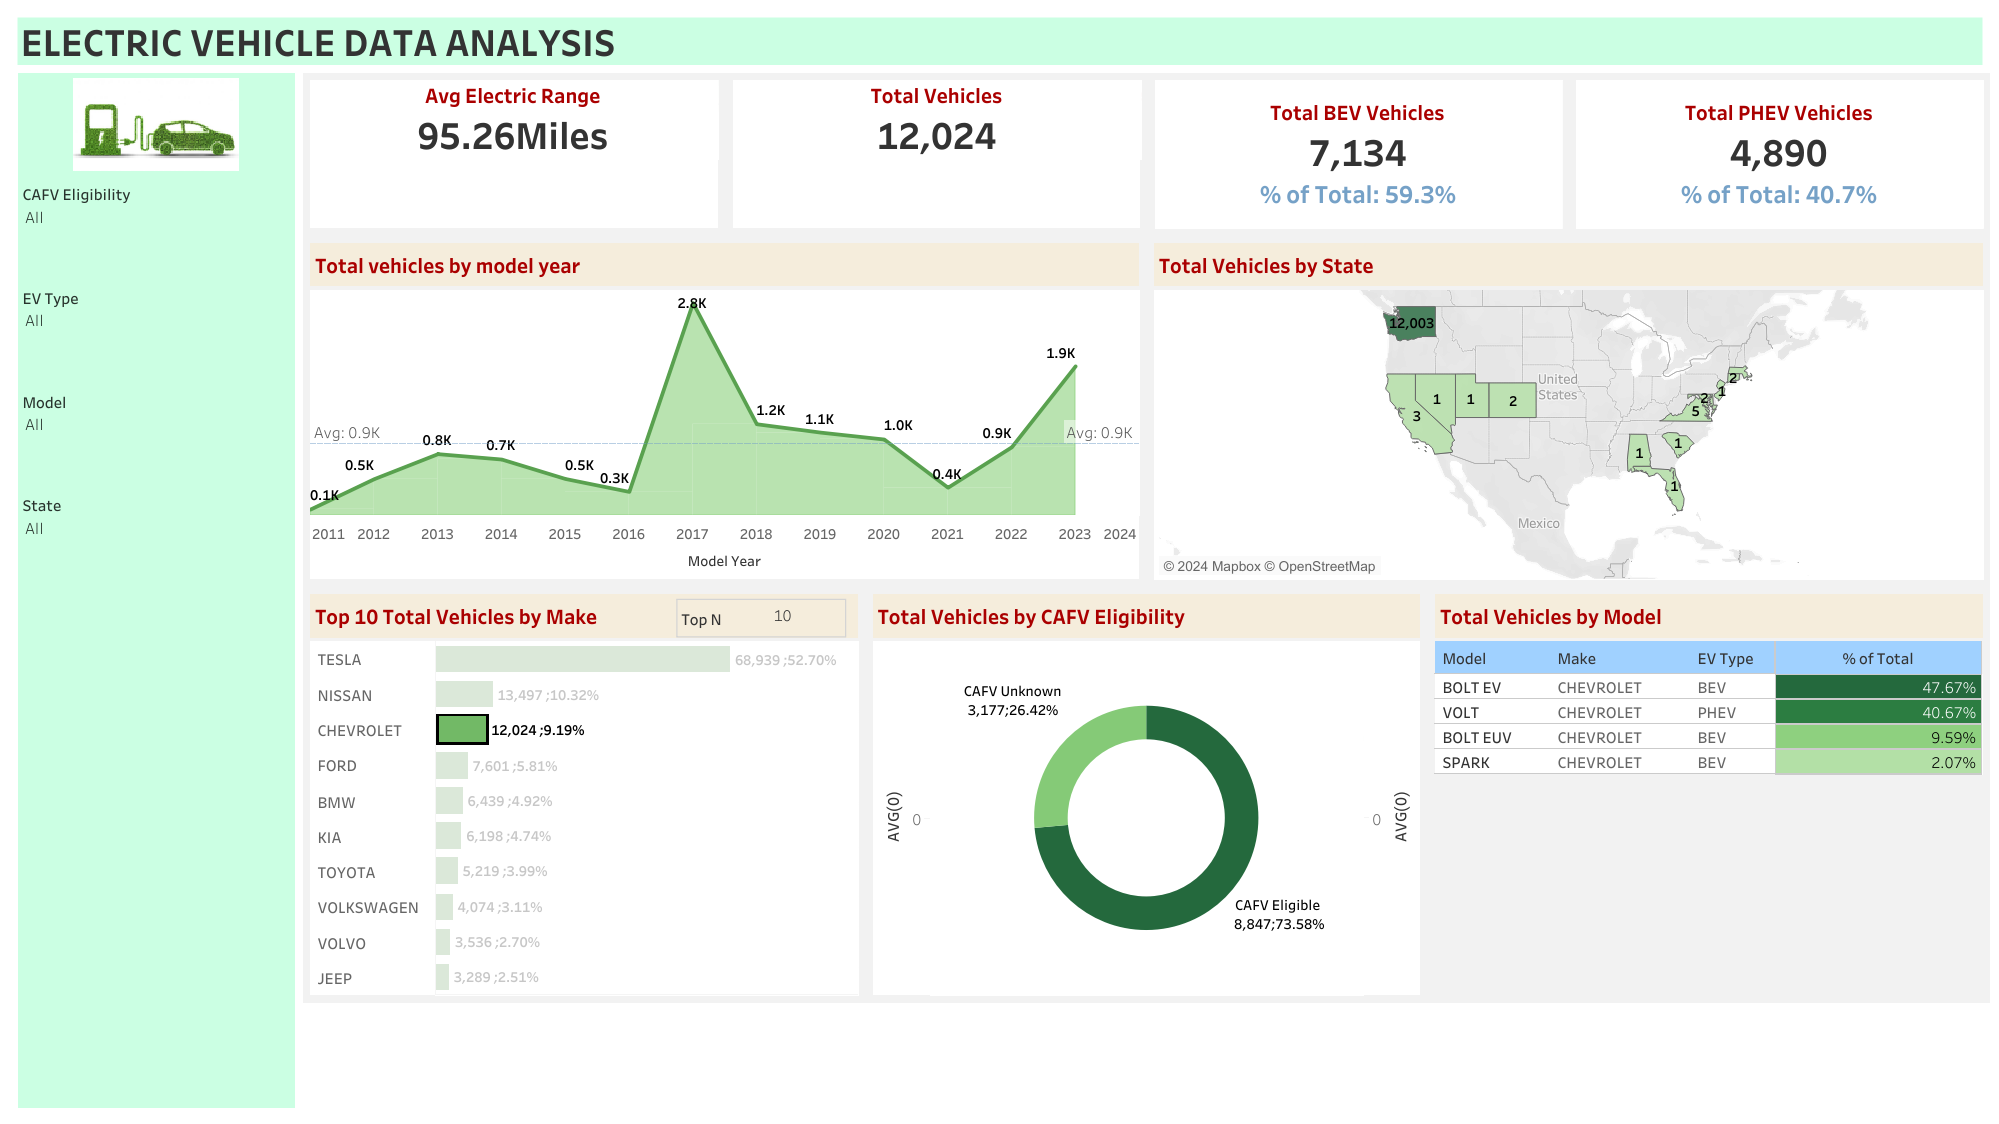

The page's visual inventory and layout, read from the dashboard file:
{"tool":"tableau","page":{"name":"Dashboard 1","canvas":[1600,900],"ordinal":0},"visuals":[{"type":"title","box":[8,8,1584,50]},{"type":"image","param":"E:/cdata/pictures/Green EV car.jpg","box":[14,58,222,83]},{"type":"worksheet","title":"Avg Electric Range","mark":"Automatic","box":[242,58,338,130]},{"type":"worksheet","title":"Total Vehicles","mark":"Automatic","box":[580,58,338,130]},{"type":"worksheet","title":"Total BEV Vehicles","mark":"Automatic","box":[918,58,337,130]},{"type":"worksheet","title":"Total PHEV Vehicles ","mark":"Automatic","box":[1255,58,337,130]},{"type":"filter","title":"Total vehicles by model year","param":"[federated.1wryx0n0py6w6v1azeyqt0s9h6ch].[none:Clean Alternative Fuel Vehicle (C","box":[14,141,222,83]},{"type":"worksheet","title":"Total vehicles by model year","mark":"Area","rows":["Calculation_722264811047989249","Calculation_722264811047989249"],"cols":["Model Year"],"box":[242,188,675,281]},{"type":"worksheet","title":"Total Vehicles by State","mark":"Multipolygon","box":[917,188,675,281]},{"type":"filter","title":"Total vehicles by model year","param":"[federated.1wryx0n0py6w6v1azeyqt0s9h6ch].[none:Electric Vehicle Type:nk]","box":[14,224,222,83]},{"type":"filter","title":"Total vehicles by model year","param":"[federated.1wryx0n0py6w6v1azeyqt0s9h6ch].[none:Model:nk]","box":[14,307,222,83]},{"type":"filter","title":"Total vehicles by model year","param":"[federated.1wryx0n0py6w6v1azeyqt0s9h6ch].[none:State:nk]","box":[14,390,222,83]},{"type":"worksheet","title":"Top 10 Total Vehicles by Make","mark":"Automatic","rows":["Make"],"cols":["Calculation_722264811047989249"],"box":[242,469,450,333]},{"type":"worksheet","title":"Total Vehicles by CAFV Eligibility","mark":"Pie","rows":["Calculation_722264811170283529","Calculation_722264811170283529"],"box":[692,469,450,333]},{"type":"worksheet","title":"Total Vehicles by Model","mark":"Square","rows":["Model","Make","Electric Vehicle Type"],"box":[1142,469,450,333]},{"type":"blank","box":[14,473,222,83]},{"type":"parameter","param":"[Parameters].[Parameter 1]","box":[541,479,136,31]},{"type":"blank","box":[14,556,222,83]},{"type":"blank","box":[14,639,222,83]},{"type":"blank","box":[14,722,222,82]},{"type":"blank","box":[242,801.9,1350,90]},{"type":"blank","box":[14,804,222,82]}]}

Visuals, with their boxes in screenshot pixels (x1, y1, x2, y2), scaled from the page's 1600x900 canvas onto the 1999x1124 screenshot:
title: crop(10, 10, 1989, 72)
image: crop(17, 72, 295, 176)
"Avg Electric Range" worksheet: crop(302, 72, 725, 235)
"Total Vehicles" worksheet: crop(725, 72, 1147, 235)
"Total BEV Vehicles" worksheet: crop(1147, 72, 1568, 235)
"Total PHEV Vehicles " worksheet: crop(1568, 72, 1989, 235)
"Total vehicles by model year" filter: crop(17, 176, 295, 280)
"Total vehicles by model year" worksheet (Area marks): crop(302, 235, 1146, 586)
"Total Vehicles by State" worksheet (Multipolygon marks): crop(1146, 235, 1989, 586)
"Total vehicles by model year" filter: crop(17, 280, 295, 383)
"Total vehicles by model year" filter: crop(17, 383, 295, 487)
"Total vehicles by model year" filter: crop(17, 487, 295, 591)
"Top 10 Total Vehicles by Make" worksheet: crop(302, 586, 865, 1002)
"Total Vehicles by CAFV Eligibility" worksheet (Pie marks): crop(865, 586, 1427, 1002)
"Total Vehicles by Model" worksheet (Square marks): crop(1427, 586, 1989, 1002)
blank: crop(17, 591, 295, 694)
parameter: crop(676, 598, 846, 637)
blank: crop(17, 694, 295, 798)
blank: crop(17, 798, 295, 902)
blank: crop(17, 902, 295, 1004)
blank: crop(302, 1001, 1989, 1114)
blank: crop(17, 1004, 295, 1107)
